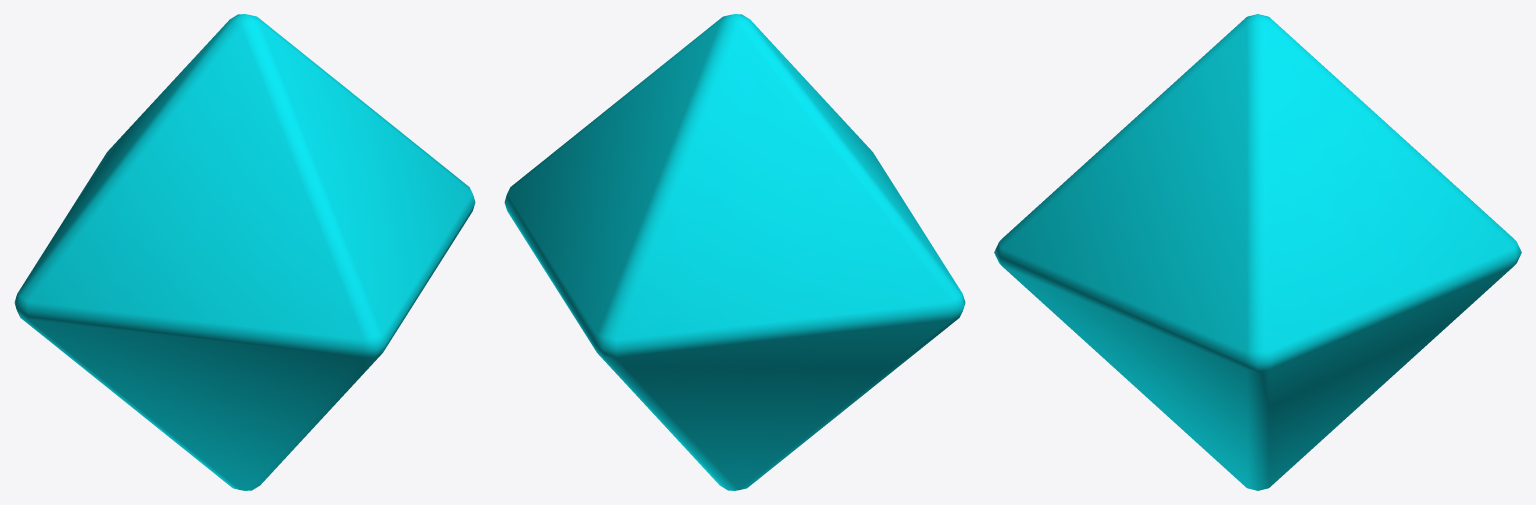
The model's file is DiamondSmall_1.fbx.
3 renders of one model, left to right at view 1: azimuth 30°, elevation 25°; view 2: azimuth 150°, elevation 25°; view 3: azimuth 270°, elevation 25°, orthographic.
Visible parts, largest first — view 1: Sphere; view 2: Sphere; view 3: Sphere.
Boxes of the visible parts, bbox=[...] form: Sphere: bbox=[14, 14, 475, 490]; Sphere: bbox=[504, 14, 965, 490]; Sphere: bbox=[994, 14, 1521, 490].
Bounding box in the file's own units: 190 × 190 × 190.
